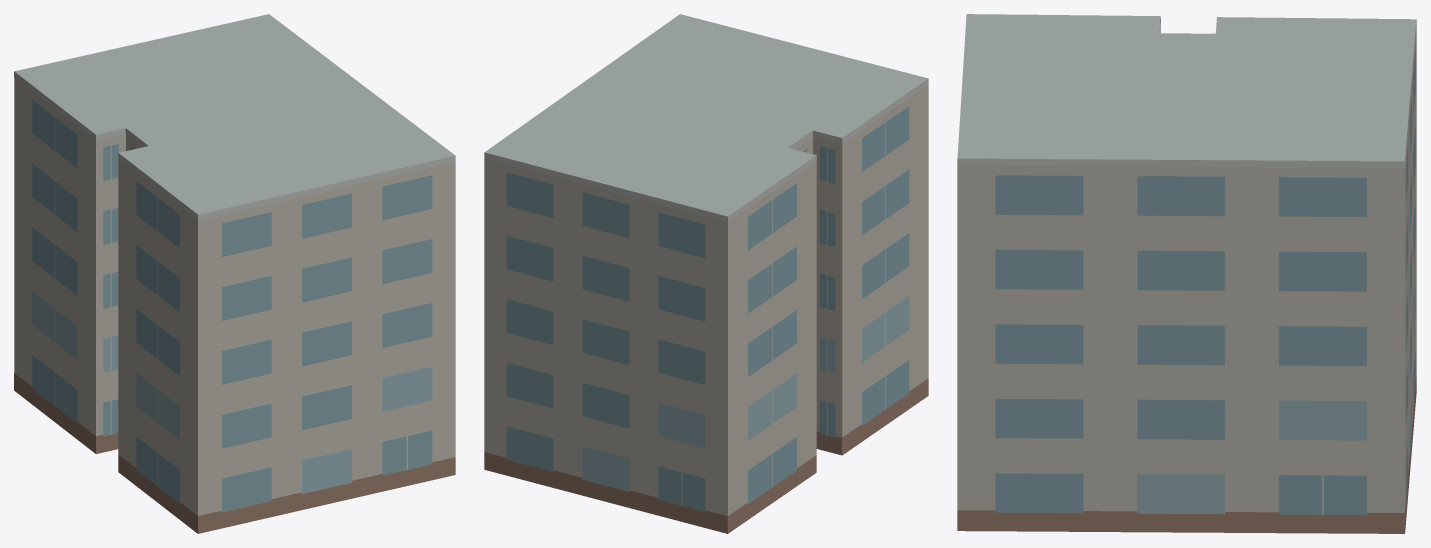
The model's file is survey-upis-32806217.glb.
3 renders of one model, left to right at view 1: azimuth 30°, elevation 25°; view 2: azimuth 150°, elevation 25°; view 3: azimuth 270°, elevation 25°, orthographic. The views are drawn at different scales.
Visible parts, largest first — view 1: survey-upis-32806217.tmp; view 2: survey-upis-32806217.tmp; view 3: survey-upis-32806217.tmp.
Part boxes in pixels (x1,y1,x2,y2): survey-upis-32806217.tmp: (14, 14, 455, 533); survey-upis-32806217.tmp: (484, 14, 928, 533); survey-upis-32806217.tmp: (957, 14, 1416, 533).
Bounding box in the file's own units: 11.04 × 13 × 14.53.
